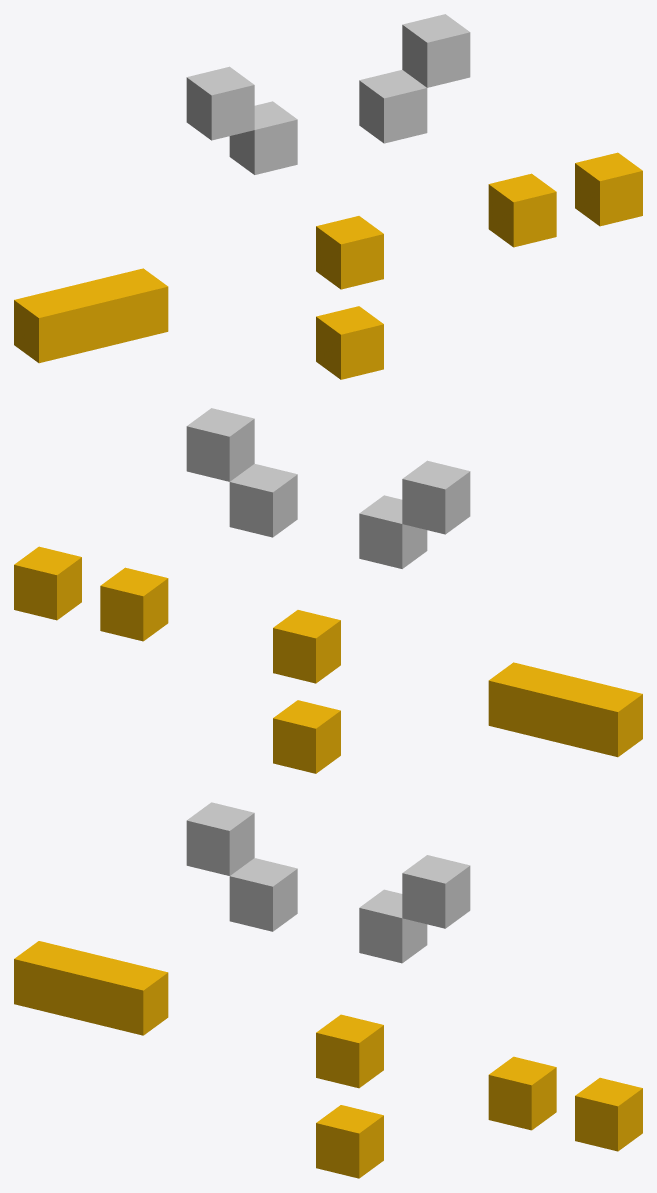
3 views of the same model, one above another, from view 1: azimuth 30°, elevation 25°; view 2: azimuth 150°, elevation 25°; view 3: azimuth 330°, elevation 25° (orthographic).
Visible parts, largest first — view 1: 11.1; view 2: 11.1; view 3: 11.1.
Part boxes in pixels (bbox=[...]): 11.1: bbox=[14, 14, 642, 379]; 11.1: bbox=[14, 408, 642, 773]; 11.1: bbox=[14, 802, 642, 1178].
Size of the model in its own units: 140 by 70 by 10.
Materials: 1 (1 with a texture image).
